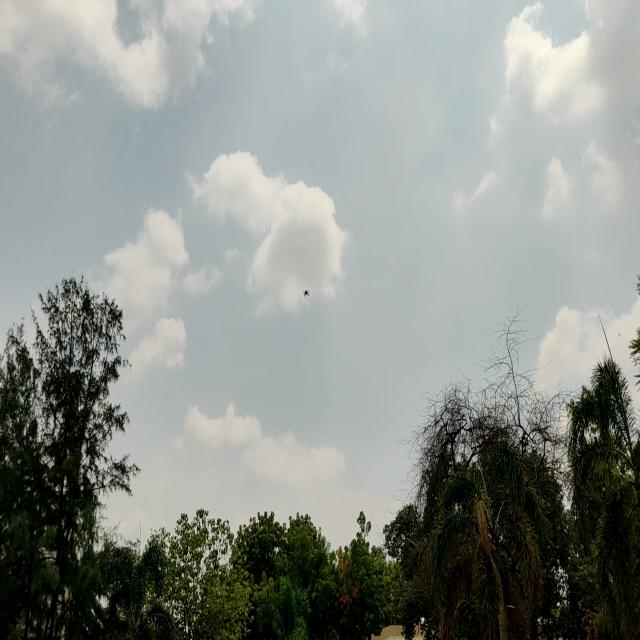drone: (300, 284, 312, 303)
